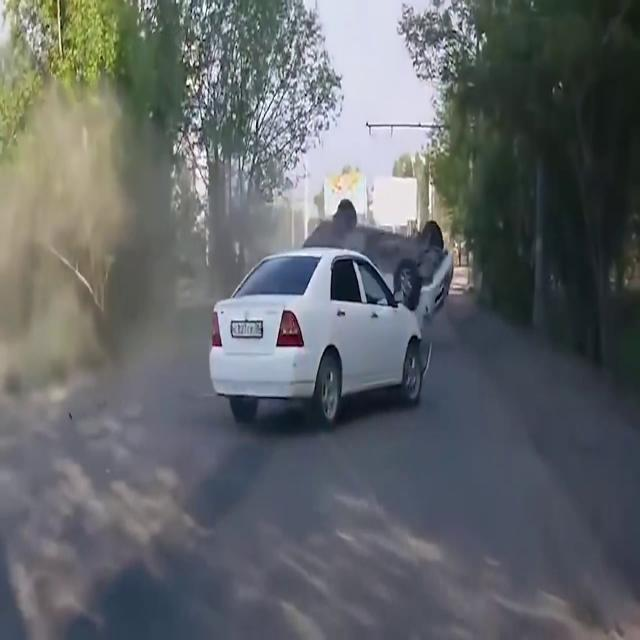accident: (210, 197, 456, 437)
